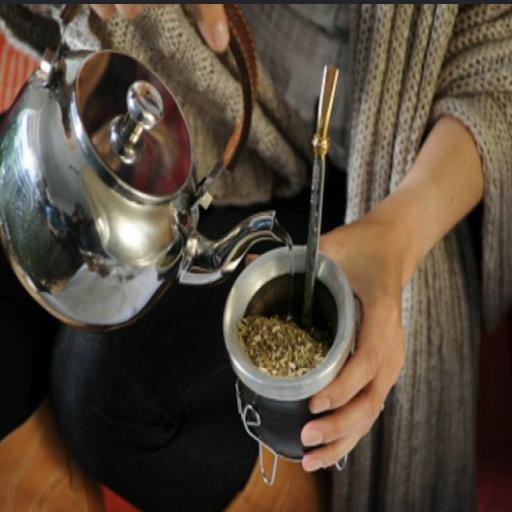mate: (224, 223, 361, 485)
